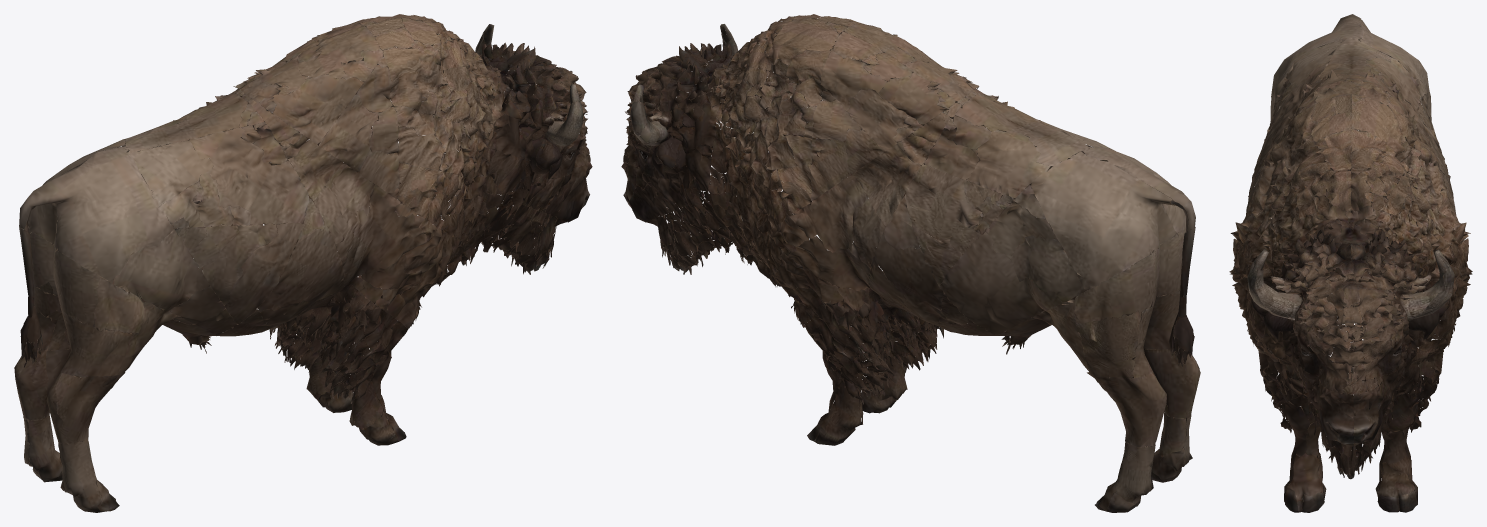
Rendered from bison.glb.
3 views of the same model, side by side, from view 1: azimuth 30°, elevation 25°; view 2: azimuth 150°, elevation 25°; view 3: azimuth 270°, elevation 25° (orthographic). The views are drawn at different scales.
Parts seen in each view (by area): view 1: Mesh_0; view 2: Mesh_0; view 3: Mesh_0.
Boxes of the visible parts, x1,y1,x2,y2 form: Mesh_0: (14,14,592,512); Mesh_0: (621,14,1200,512); Mesh_0: (1229,14,1472,512).
Size of the model in its own units: 2.8 by 1.86 by 0.9948.
1 material, 1 textured.
